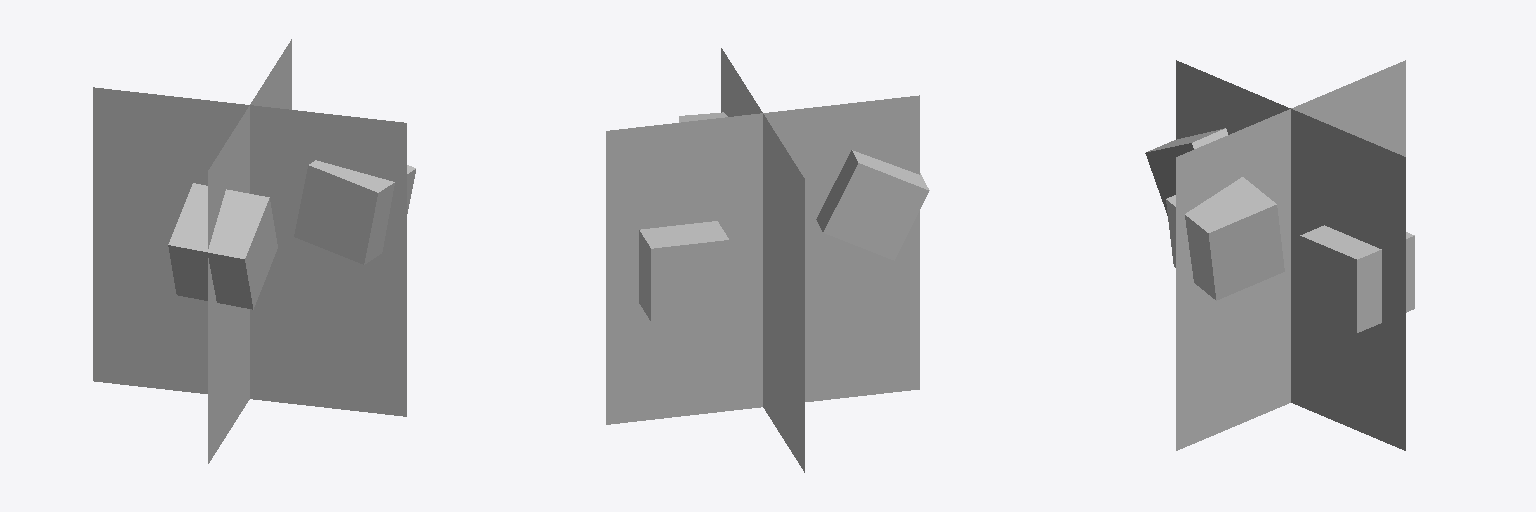
The model's file is bulbine_stem_top.obj.
3 views of the same model, side by side, from view 1: azimuth 30°, elevation 25°; view 2: azimuth 150°, elevation 25°; view 3: azimuth 270°, elevation 25° (orthographic).
Visible parts, largest first — view 1: stem_top_Cube.003; view 2: stem_top_Cube.003; view 3: stem_top_Cube.003.
Boxes of the visible parts, x1=… form: stem_top_Cube.003: x1=93, y1=39, x2=415, y2=463; stem_top_Cube.003: x1=606, y1=48, x2=929, y2=472; stem_top_Cube.003: x1=1145, y1=60, x2=1414, y2=450.
Size of the model in its own units: 0.8883 by 1 by 0.8307.